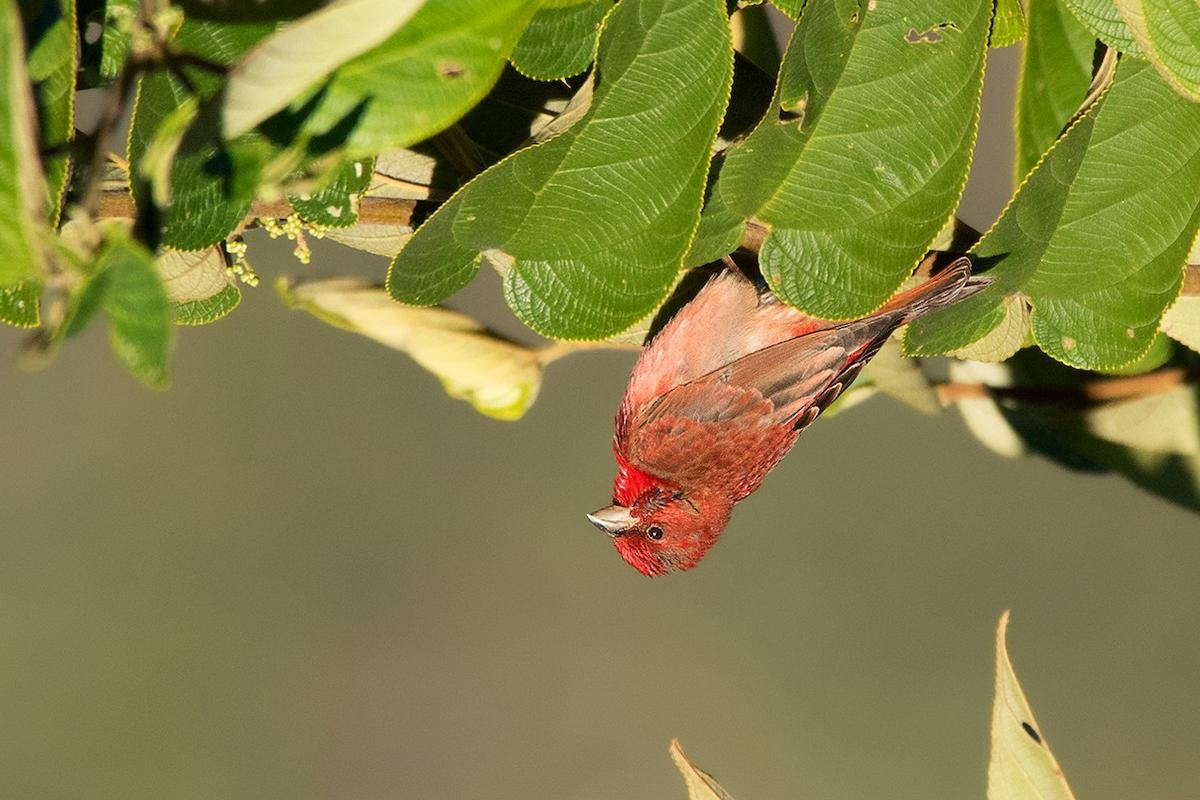rosefinch: (575, 193, 960, 603)
